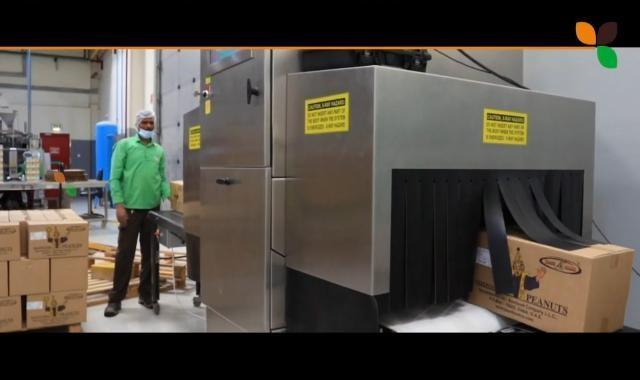gloves: (134, 105, 156, 128)
no_apron: (111, 202, 141, 232)
no_hairnet: (136, 122, 158, 143)
